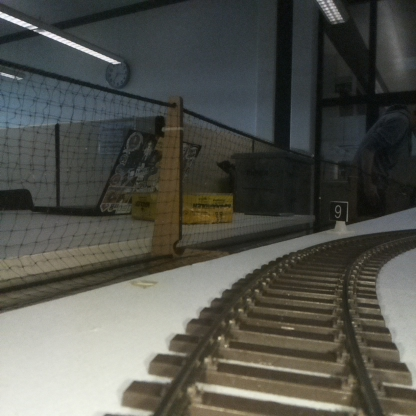black-stop-9: (330, 201, 347, 232)
